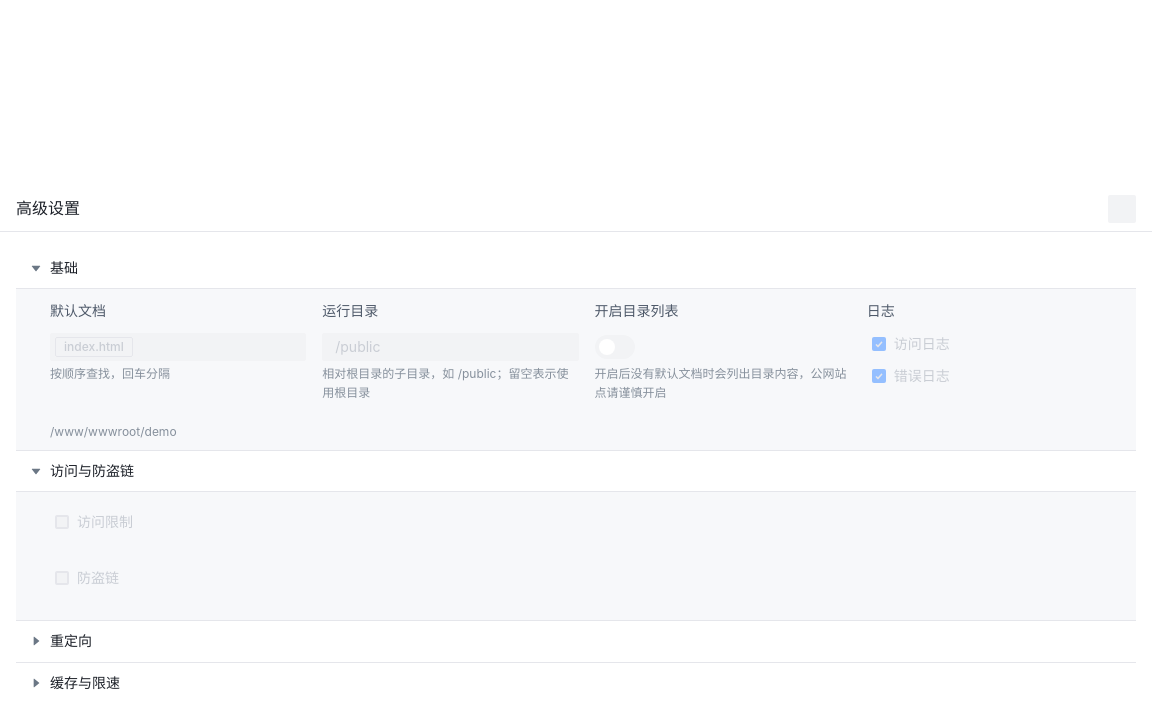
Test case: SiteSettingsCard › 无读权限不发请求，无写权限不出现保存按钮
(page scrolled)
Expected: the field with placeholder "/public" is shown, x1=335 y1=334 x2=566 y2=360
Click the button with class "arco-collapse-item-header-title" at (71, 640), box x1=16 y1=620 x2=1136 y2=662
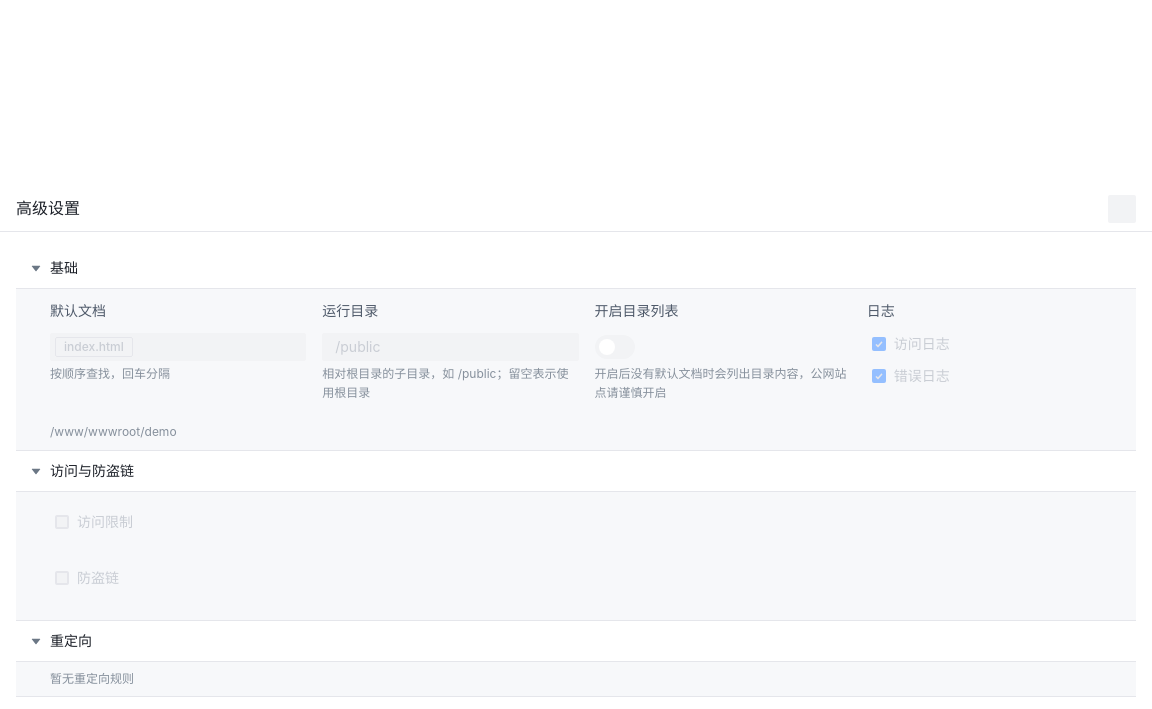
Expected: the text "暂无重定向规则" is shown, x1=50 y1=670 x2=134 y2=686
